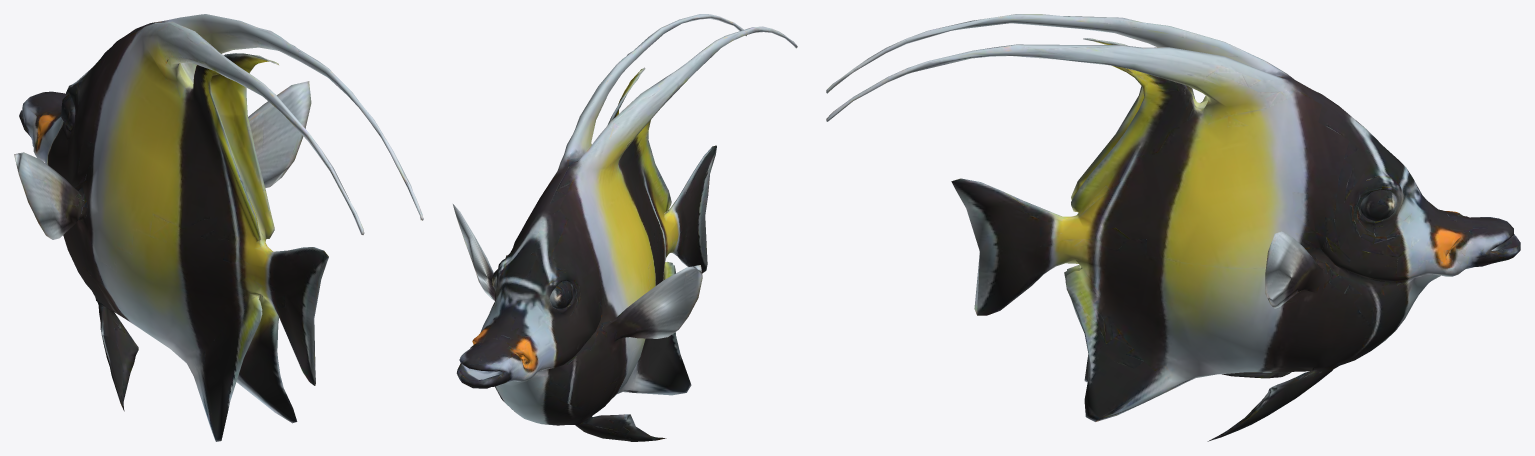
The model's file is moorse_afgod.glb.
The picture shows the model from 3 angles, left to right: view 1: azimuth 30°, elevation 25°; view 2: azimuth 150°, elevation 25°; view 3: azimuth 270°, elevation 25°; orthographic projection. The views are drawn at different scales.
Visible parts, largest first — view 1: tripo_node_6e4dae7c-e8cd-452a-943a-2cd17fd021a0; view 2: tripo_node_6e4dae7c-e8cd-452a-943a-2cd17fd021a0; view 3: tripo_node_6e4dae7c-e8cd-452a-943a-2cd17fd021a0.
Boxes of the visible parts, <box> form: tripo_node_6e4dae7c-e8cd-452a-943a-2cd17fd021a0: <box>14,14,423,441</box>; tripo_node_6e4dae7c-e8cd-452a-943a-2cd17fd021a0: <box>453,14,797,441</box>; tripo_node_6e4dae7c-e8cd-452a-943a-2cd17fd021a0: <box>826,14,1520,441</box>.
Size of the model in its own units: 0.2375 by 0.3 by 0.4993.
1 material, 1 textured.
